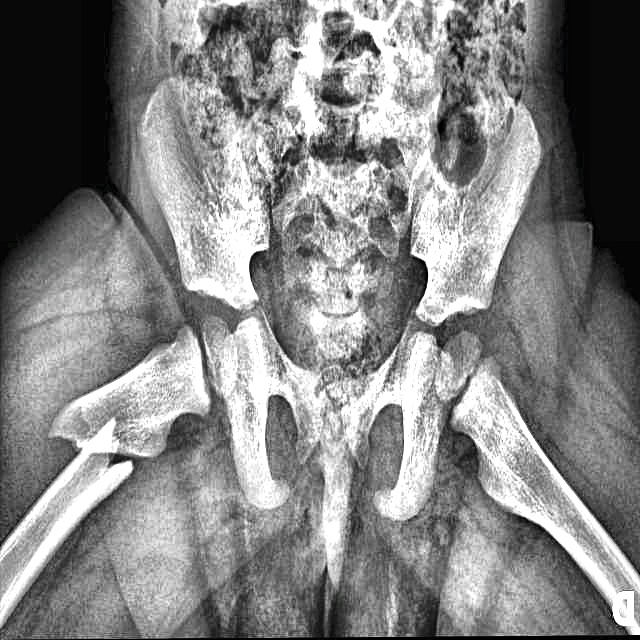Transverse: (39, 388, 157, 508)
